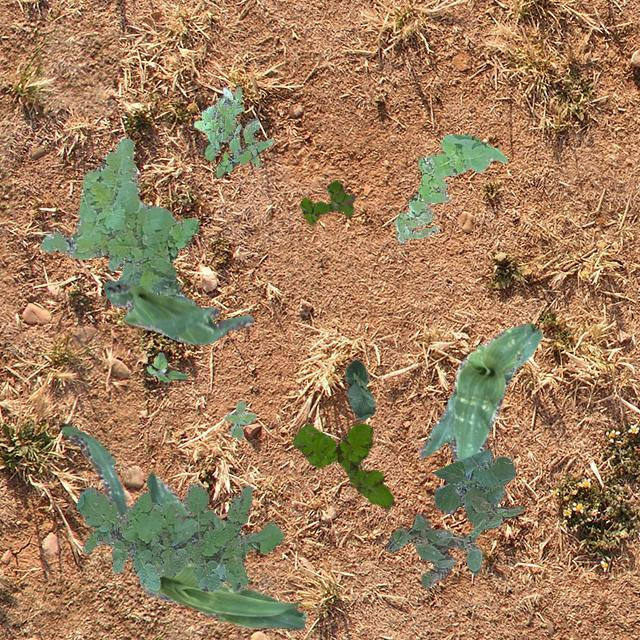crop: (58, 422, 304, 628), (418, 322, 540, 462), (102, 278, 252, 344), (432, 448, 514, 526), (344, 358, 374, 419)
weed: (40, 136, 196, 298), (75, 482, 284, 592), (386, 494, 522, 588), (394, 132, 506, 242), (292, 424, 394, 509), (192, 86, 272, 176), (298, 180, 354, 224), (223, 399, 256, 438), (146, 352, 187, 381)
